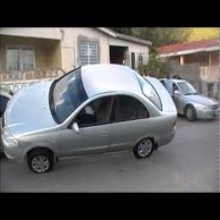no damage: (2, 64, 177, 174), (160, 76, 220, 123)
